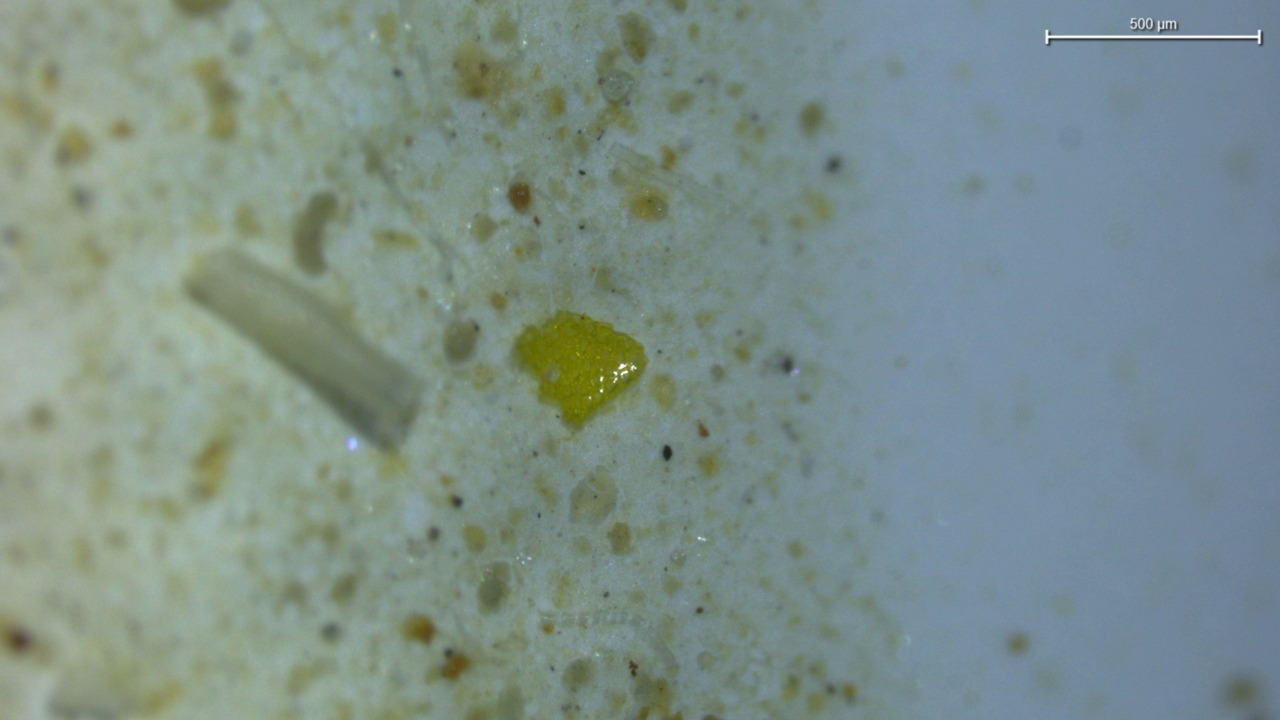microplastic_fragment: (516, 312, 647, 425)
